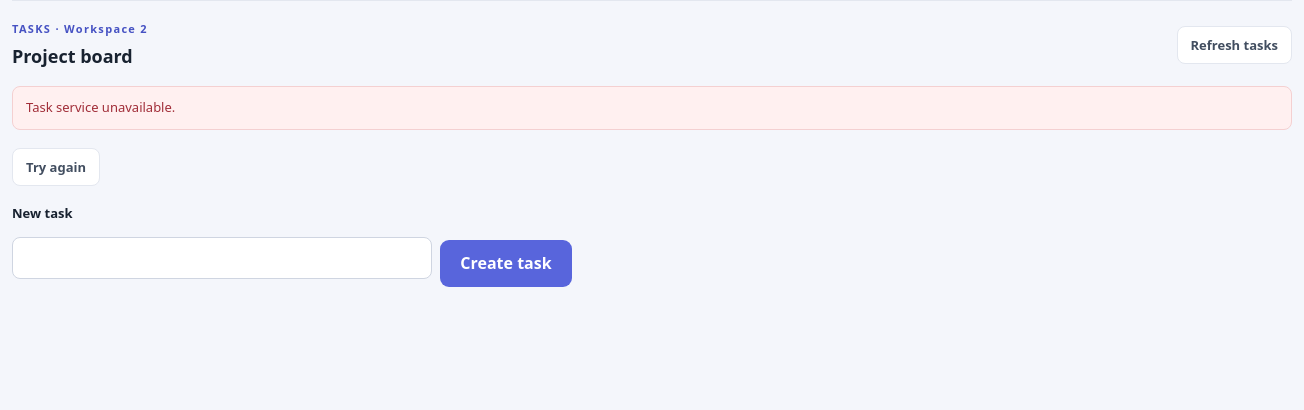
Test: project task board › shows load errors and retries
Expected: the message reads "Task service unavailable.", [26,98,175,116]
Click the button "Try again". click: coordinates (56, 166)
box: [12,148,100,186]
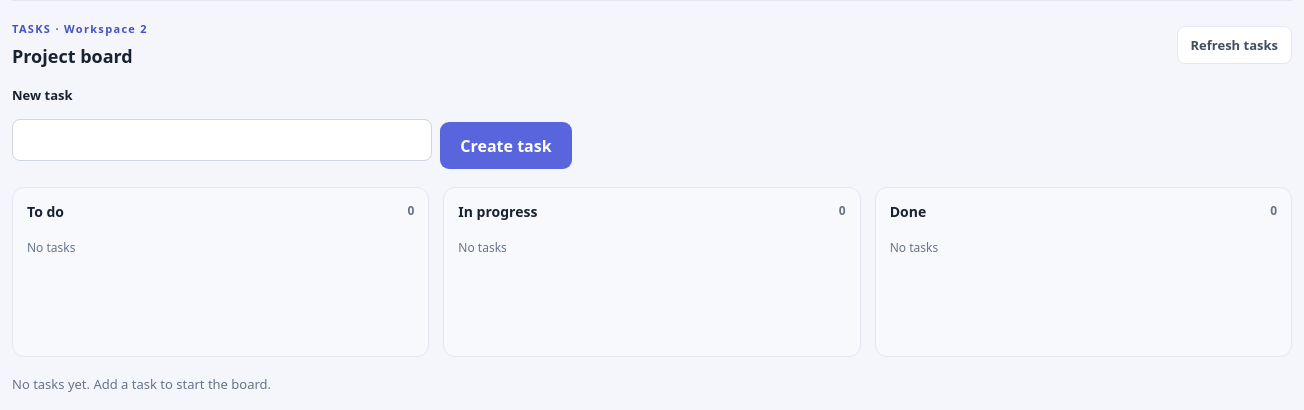
Result: the text "No tasks yet. Add a task to start the board." is shown at [12,375,271,393]
